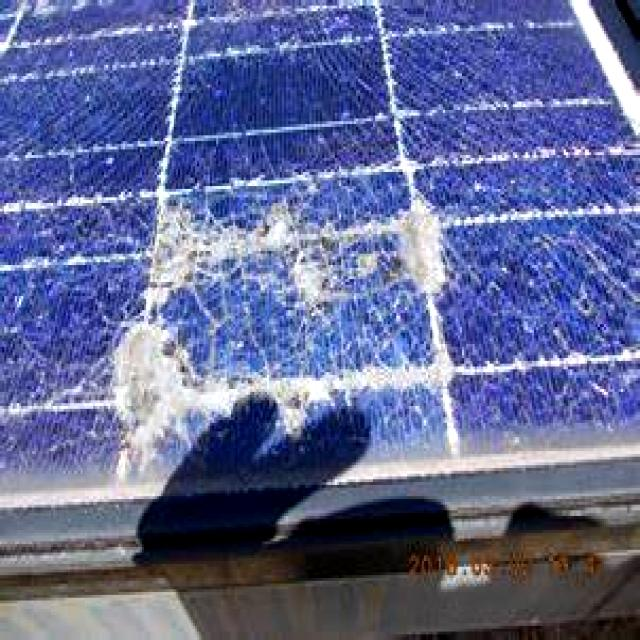hotspot: (109, 326, 466, 485), (137, 176, 453, 324)
